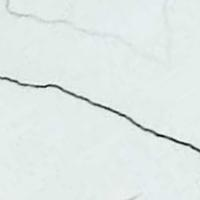crack: (0, 63, 199, 168)
